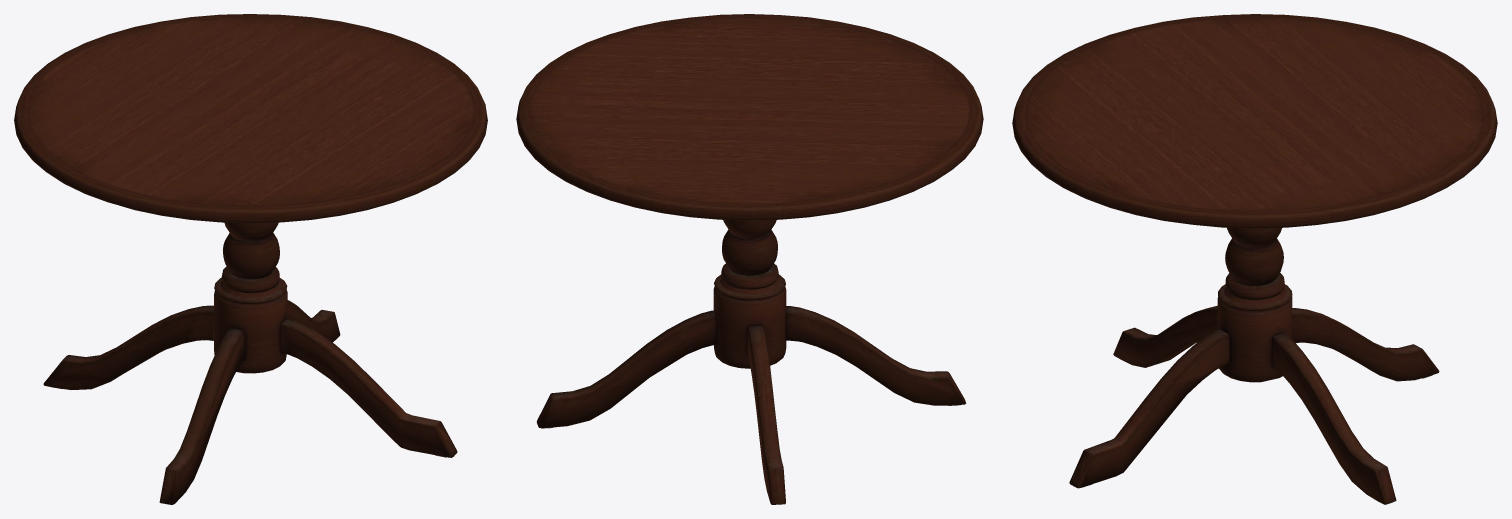
File: round_wooden_table_01.glb
The picture shows the model from 3 angles, left to right: view 1: azimuth 30°, elevation 25°; view 2: azimuth 150°, elevation 25°; view 3: azimuth 270°, elevation 25°; orthographic projection. The views are drawn at different scales.
Visible parts, largest first — view 1: round_wooden_table_01; view 2: round_wooden_table_01; view 3: round_wooden_table_01.
Part boxes in pixels (x1,y1,x2,y2): round_wooden_table_01: [14, 14, 487, 504]; round_wooden_table_01: [516, 14, 983, 504]; round_wooden_table_01: [1012, 14, 1497, 504].
Size of the model in its own units: 1.4 by 1 by 1.4.
Materials: 1 (1 with a texture image).
